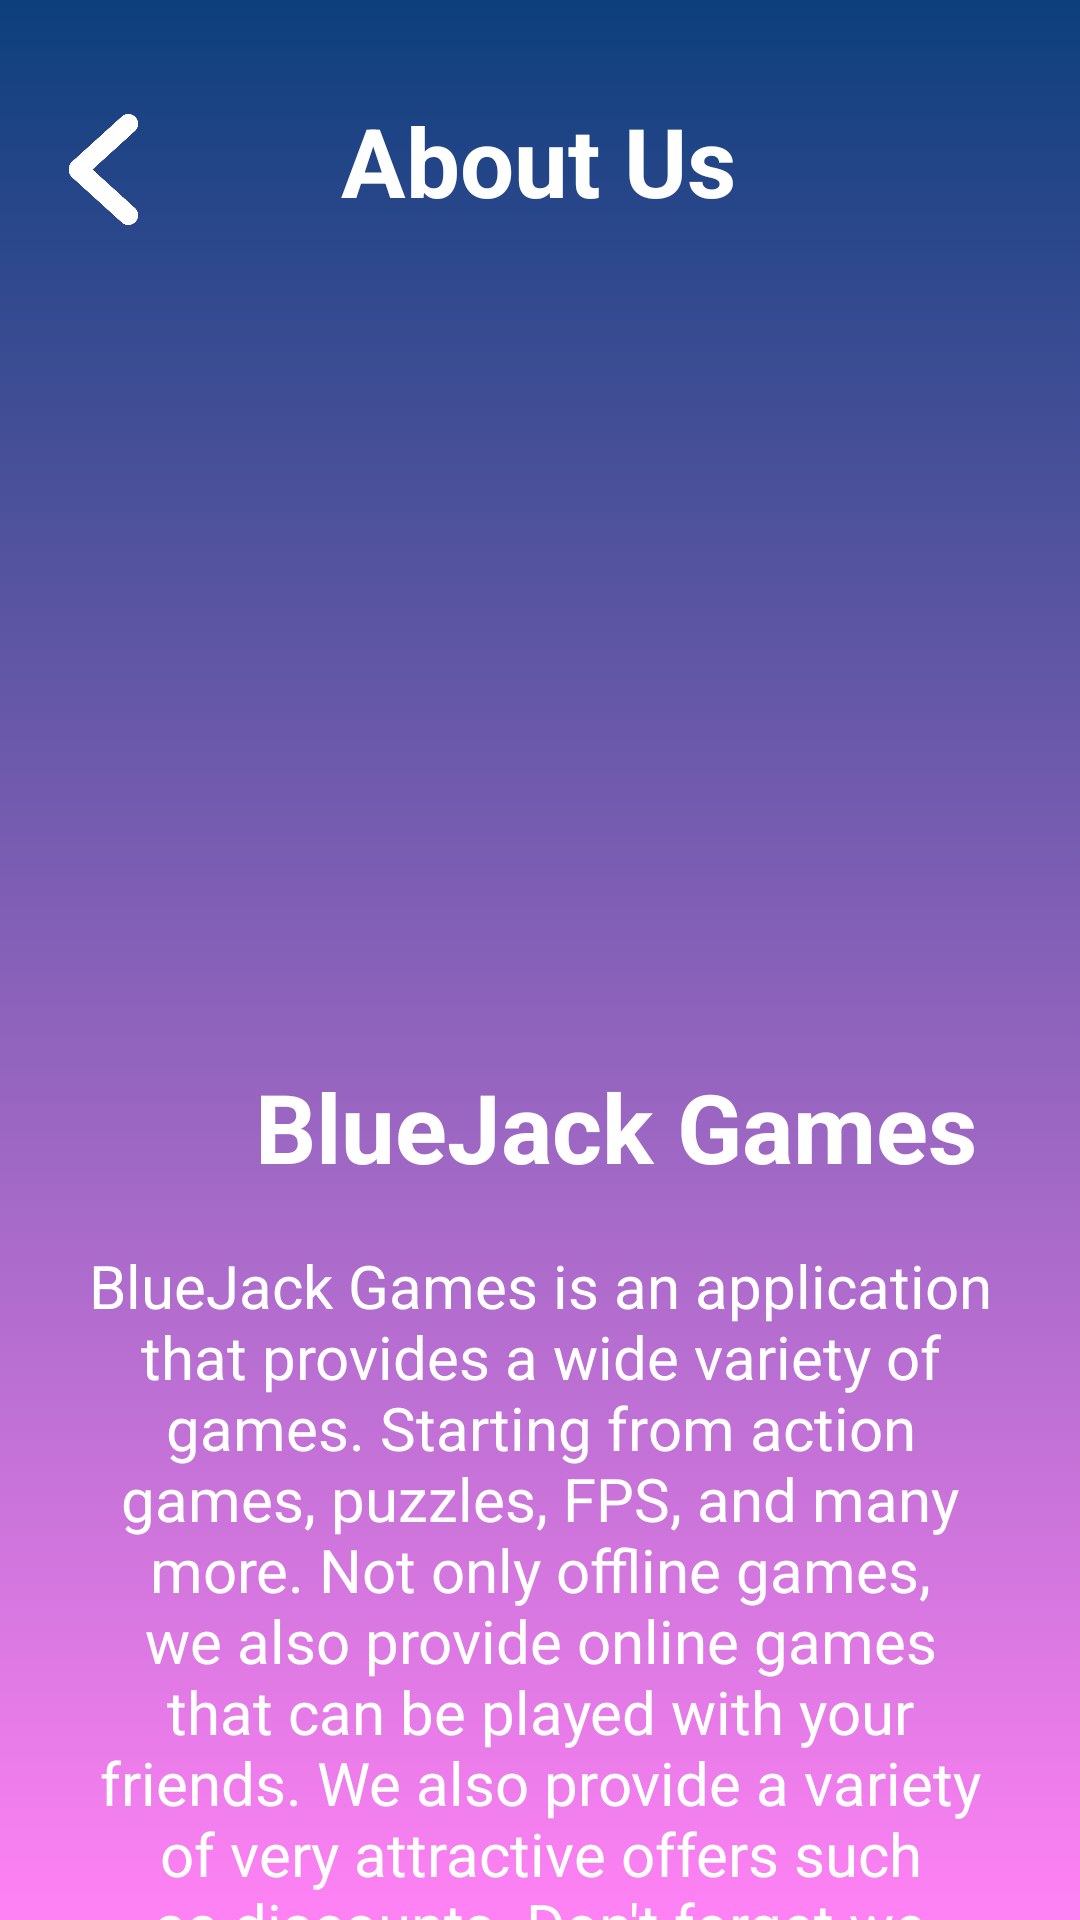

Where icons sit on this 1080×1920 app screen, as bbox=[x1, y1, x2, y2]:
arrow left: bbox=[69, 114, 138, 225]
